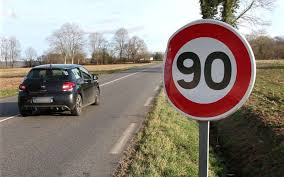Speed_limit_90km: (163, 19, 254, 120)
car: (13, 60, 106, 117)
